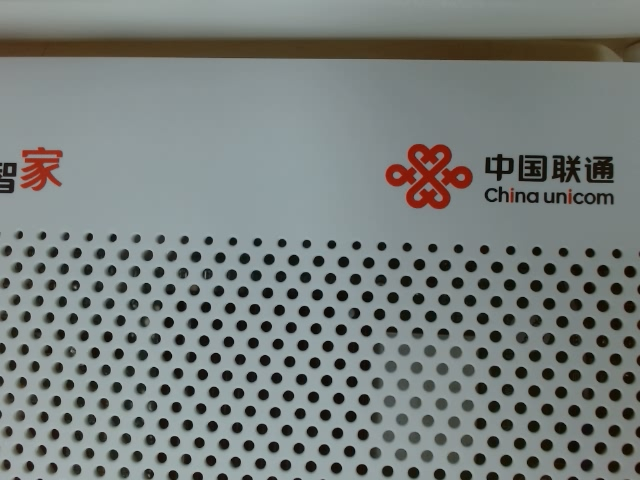AD_ChinaUnicom: (371, 120, 625, 228)
